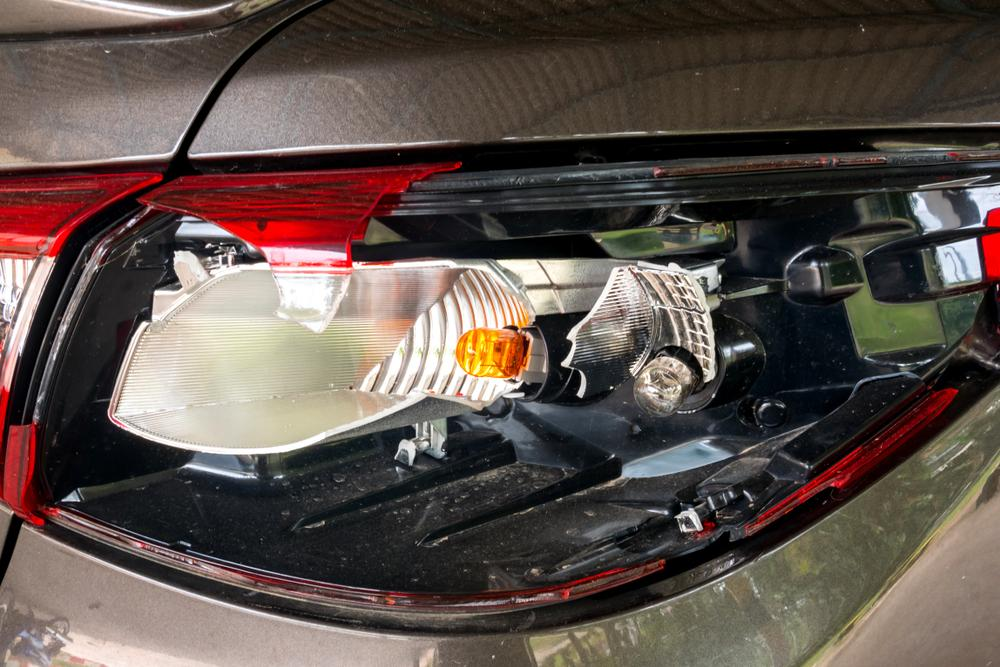lamp broken: (0, 141, 1000, 633)
